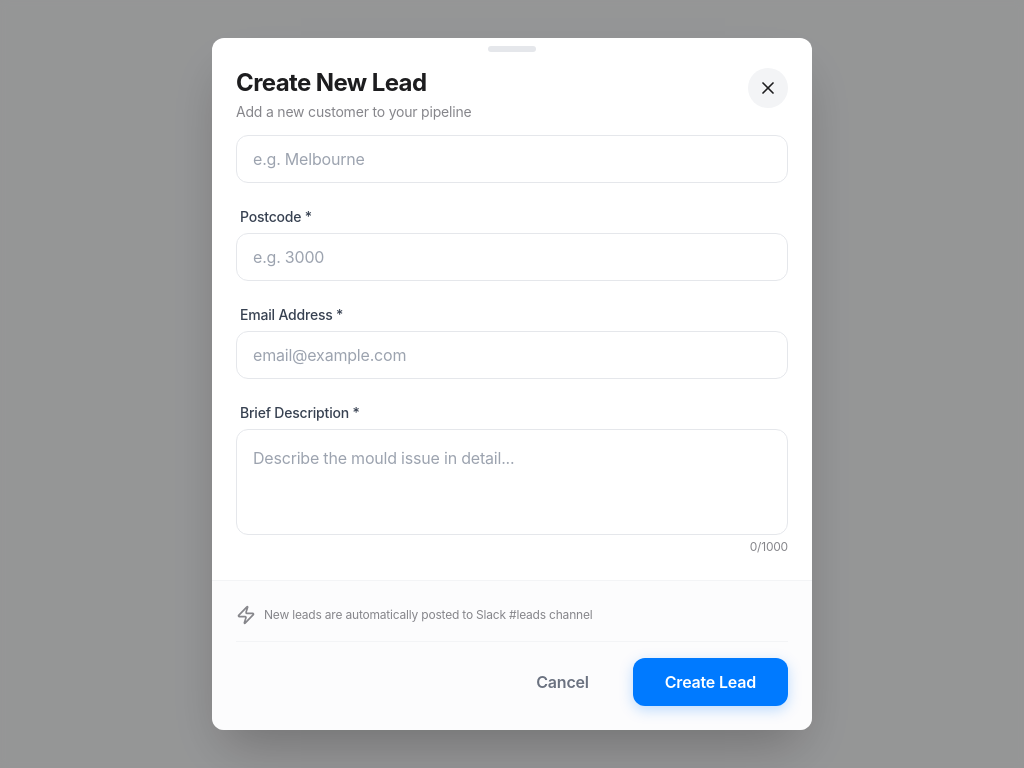
Scenario: CreateNewLeadModal — blur-triggered duplicate check › should show the warning before Save when the email field loses focus
(page scrolled)
Type "jane@example.com" into the field with placeholder "email@example.com" at (512, 355), box [236, 331, 788, 379]
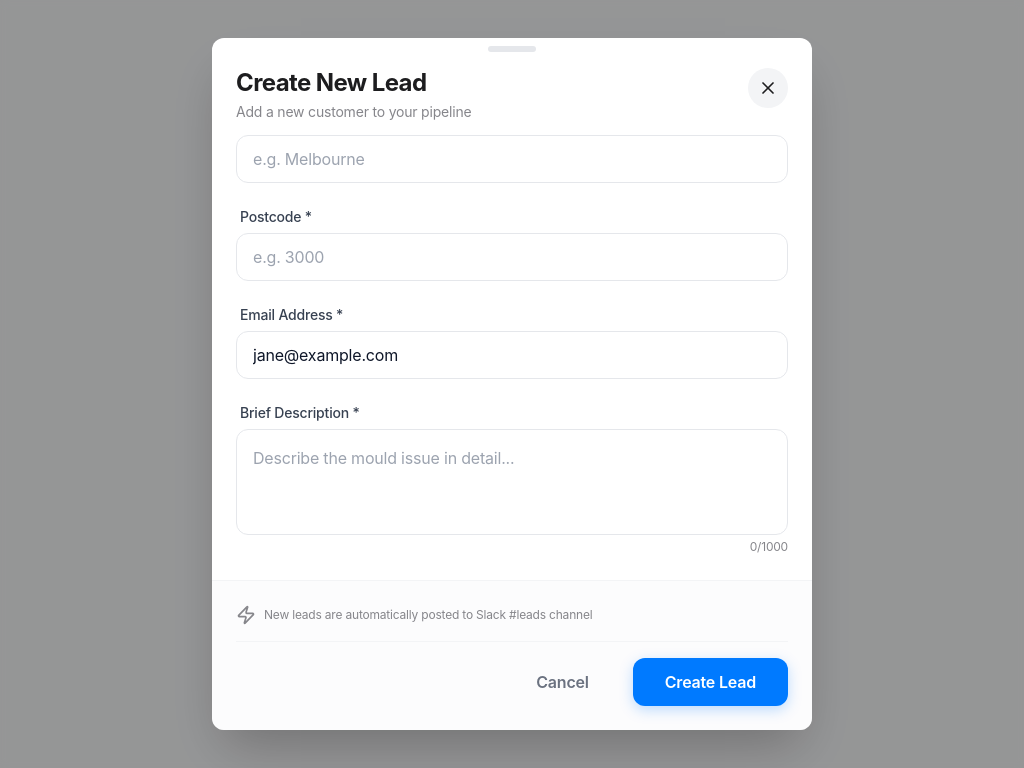
Leave the field with placeholder "email@example.com", box [236, 331, 788, 379]
(page scrolled)
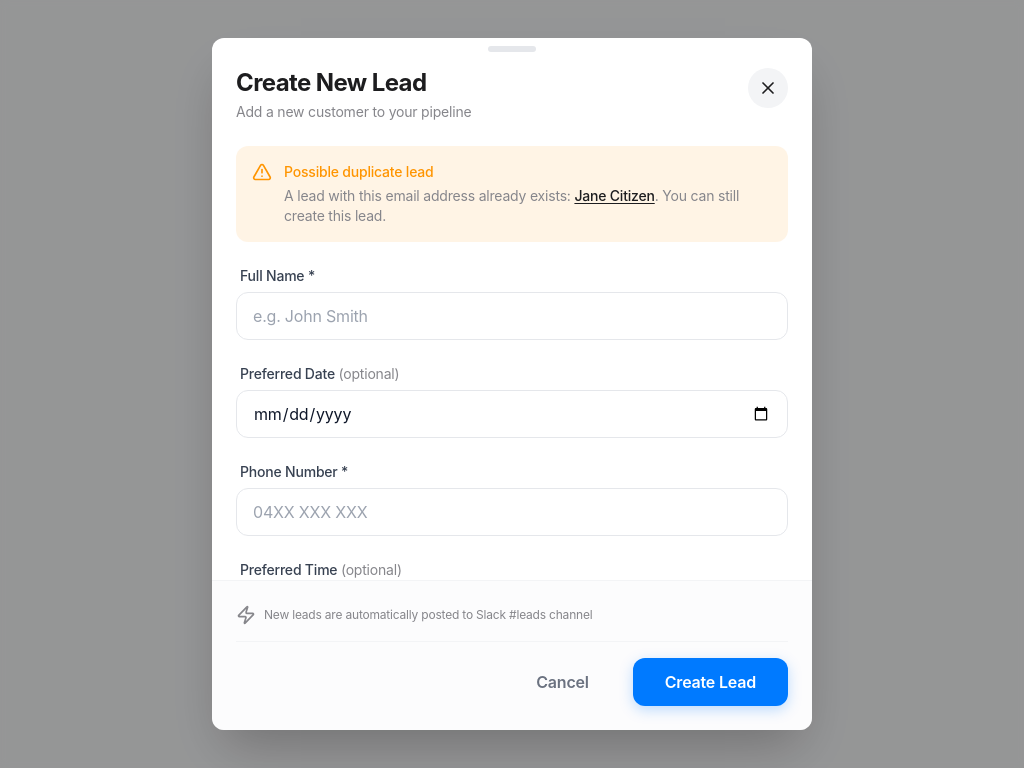
Check: the text "Possible duplicate lead" is shown, box [284, 163, 434, 180]
